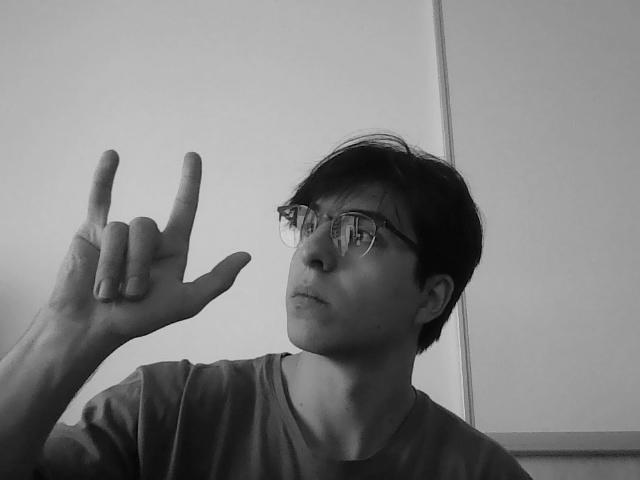I_Love_You: (66, 152, 256, 328)
